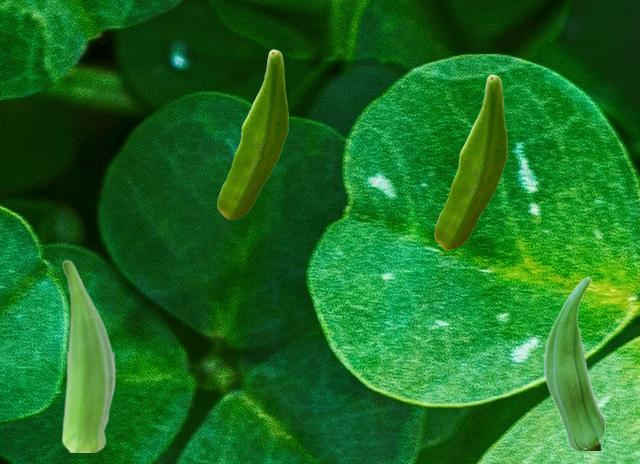okra: (434, 74, 506, 248), (217, 49, 287, 218), (543, 275, 604, 449), (61, 259, 115, 451)
